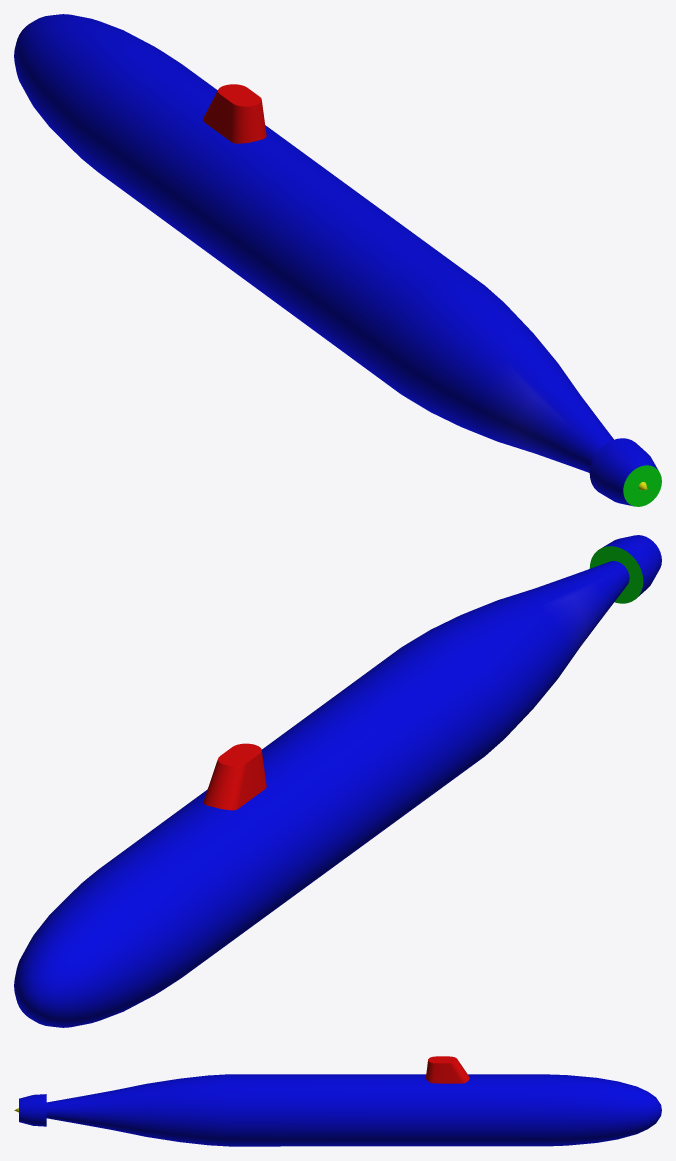
Rendered from Submarine - Finished.fbx.
The picture shows the model from 3 angles, top to bottom: view 1: azimuth 30°, elevation 25°; view 2: azimuth 150°, elevation 25°; view 3: azimuth 270°, elevation 25°; orthographic projection. The views are drawn at different scales.
Parts seen in each view (by area): view 1: submarine; view 2: submarine; view 3: submarine.
Part boxes in pixels (box(x1,y1,x2,y2)): submarine: box(14, 14, 661, 506); submarine: box(14, 535, 661, 1027); submarine: box(14, 1056, 661, 1146).
Size of the model in its own units: 873 by 1107 by 7817.
